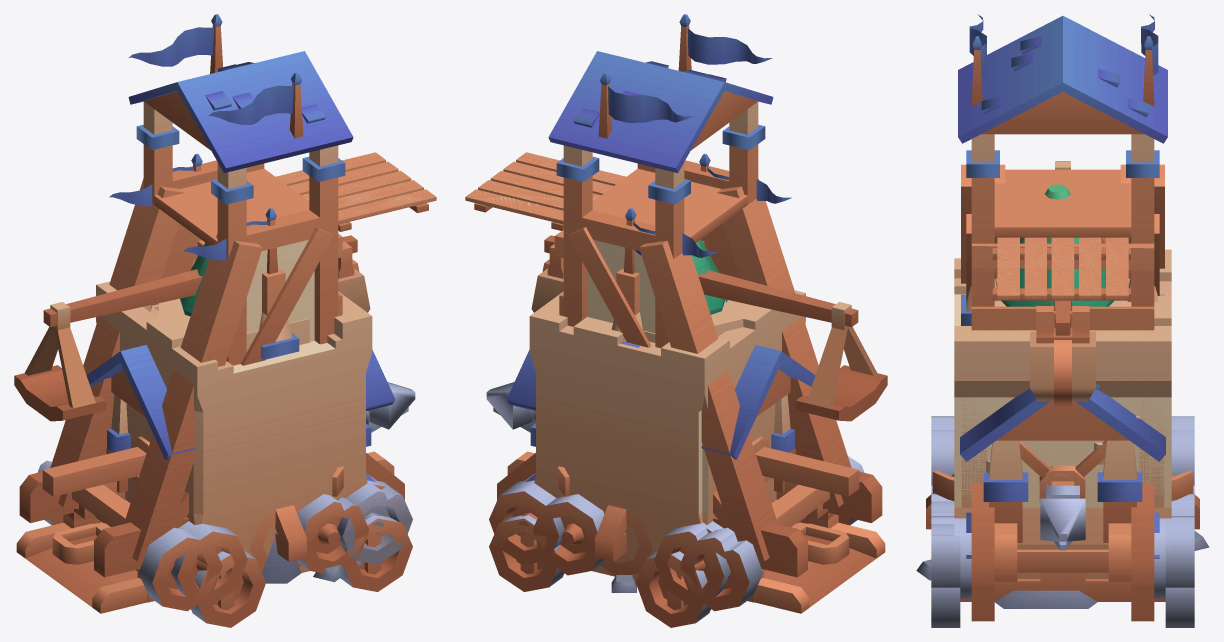
The model's file is animation.glb.
3 views of the same model, side by side, from view 1: azimuth 30°, elevation 25°; view 2: azimuth 150°, elevation 25°; view 3: azimuth 270°, elevation 25° (orthographic). The views are drawn at different scales.
Visible parts, largest first — view 1: siege-tower, wall, wall-doorway, siege-ram, siege-trebuchet, wall-corner, catapult.001, bridge-draw, ram, wheel.016, wheel.017, arm (+9 smaller); view 2: siege-tower, wall, wall-doorway, wall-corner, siege-ram, catapult.001, siege-trebuchet, bridge-draw, ram, wheel.018, wheel.019, arm (+9 smaller); view 3: siege-tower, siege-ram, wall, wall-corner, siege-trebuchet, weight, siege-catapult, ram, wheel.006, tower-square-mid, rocks-large, wheel.009 (+12 smaller).
Boxes of the visible parts, x1,y1,x2,y2 form: siege-tower: (19, 14, 436, 577); wall: (96, 281, 372, 572); wall-doorway: (96, 282, 284, 556); siege-ram: (74, 345, 395, 519); siege-trebuchet: (67, 153, 404, 561); wall-corner: (96, 285, 372, 525); catapult.001: (14, 302, 106, 421); bridge-draw: (16, 522, 147, 613); ram: (42, 382, 415, 496); wheel.016: (139, 527, 222, 611); wheel.017: (297, 494, 369, 573); arm: (43, 235, 357, 327); siege-tower: (465, 14, 882, 577); wall: (529, 290, 805, 580); wall-doorway: (617, 290, 804, 580); wall-corner: (531, 291, 805, 524); siege-ram: (506, 345, 827, 519); catapult.001: (795, 302, 887, 421); siege-trebuchet: (497, 153, 834, 561); bridge-draw: (754, 522, 885, 613); ram: (486, 382, 859, 496); wheel.018: (679, 527, 762, 611); wheel.019: (532, 494, 604, 575); arm: (544, 235, 858, 327); siege-tower: (958, 14, 1167, 330); siege-ram: (960, 384, 1165, 581); wall: (954, 249, 1171, 578); wall-corner: (954, 249, 1171, 543); siege-trebuchet: (926, 268, 1199, 591); weight: (1030, 306, 1095, 406); siege-catapult: (960, 512, 1165, 621); ram: (1040, 481, 1085, 541); wheel.006: (1165, 516, 1194, 587); tower-square-mid: (961, 397, 1164, 507); rocks-large: (916, 531, 1209, 608); wheel.009: (931, 516, 960, 587).
Bounding box in the file's own units: 2.14 × 2.83 × 1.35.
Materials: 18 (18 with a texture image).
